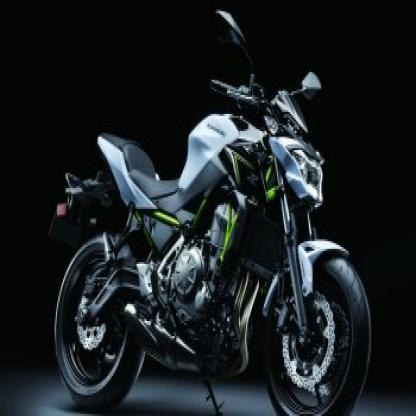Motorcycle: (44, 4, 373, 414)
